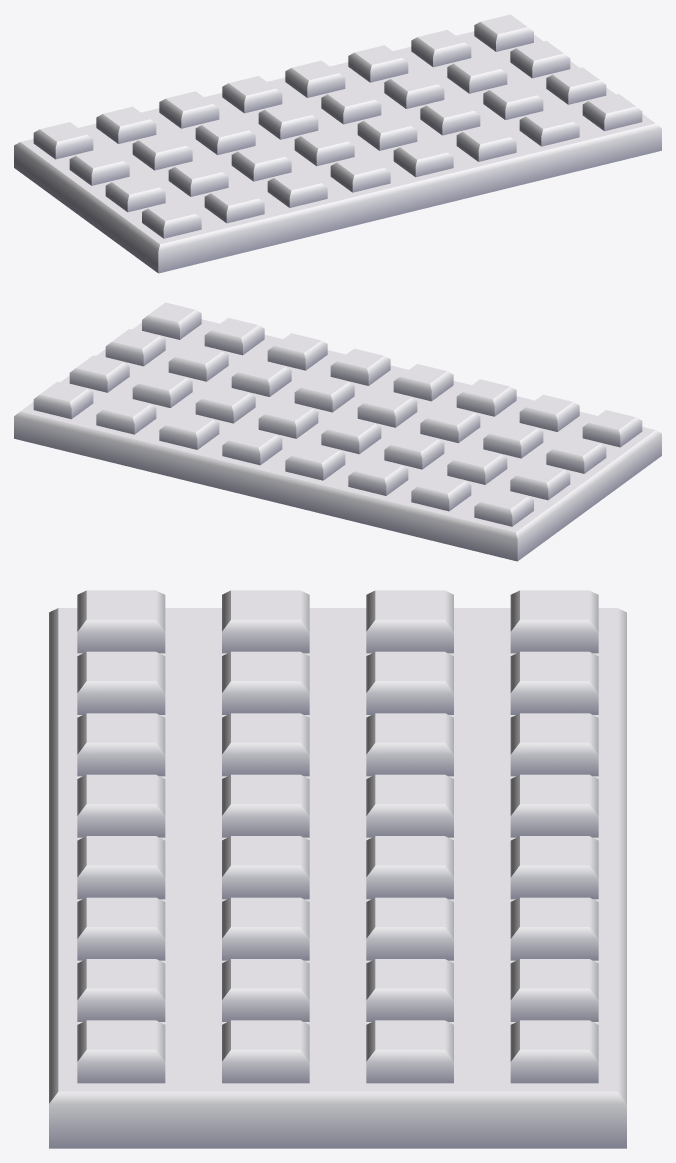
File: kenney-brick-square-hq-plate-4-x-8.glb
3 views of the same model, one above another, from view 1: azimuth 30°, elevation 25°; view 2: azimuth 150°, elevation 25°; view 3: azimuth 270°, elevation 25° (orthographic). The views are drawn at different scales.
Visible parts, largest first — view 1: square-hq-plate-4x8; view 2: square-hq-plate-4x8; view 3: square-hq-plate-4x8.
Part boxes in pixels (<box>): square-hq-plate-4x8: <box>14,14,661,273</box>; square-hq-plate-4x8: <box>14,302,661,561</box>; square-hq-plate-4x8: <box>49,590,626,1148</box>.
Bounding box in the file's own units: 0.636 × 0.05 × 0.316.
Materials: 1 (1 with a texture image).
